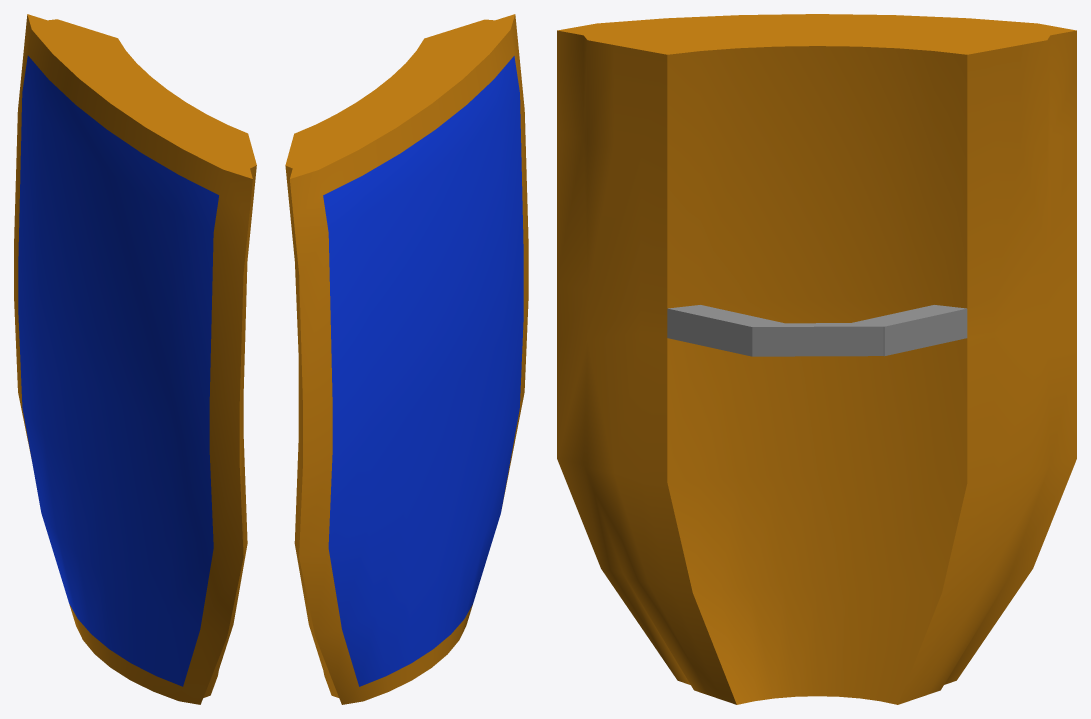
File: Escudo Parte2.FBX
3 renders of one model, left to right at view 1: azimuth 30°, elevation 25°; view 2: azimuth 150°, elevation 25°; view 3: azimuth 270°, elevation 25°, orthographic. The views are drawn at different scales.
Visible parts, largest first — view 1: Box001; view 2: Box001; view 3: Box001.
Boxes of the visible parts, x1,y1,x2,y2 form: Box001: (14, 14, 256, 704); Box001: (285, 14, 528, 704); Box001: (557, 14, 1076, 704).
Bounding box in the file's own units: 5.72 × 29.22 × 21.18.
